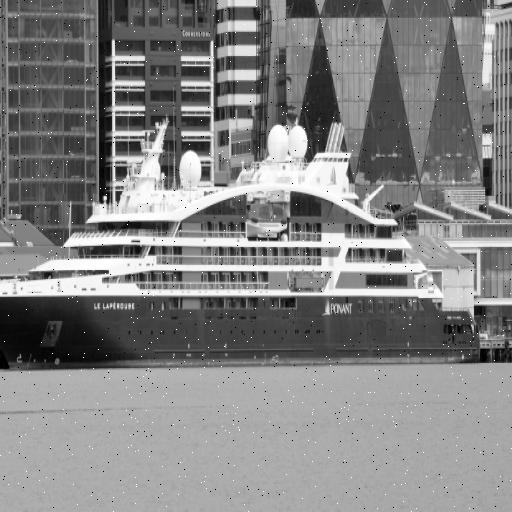cruises: (1, 109, 481, 372)
